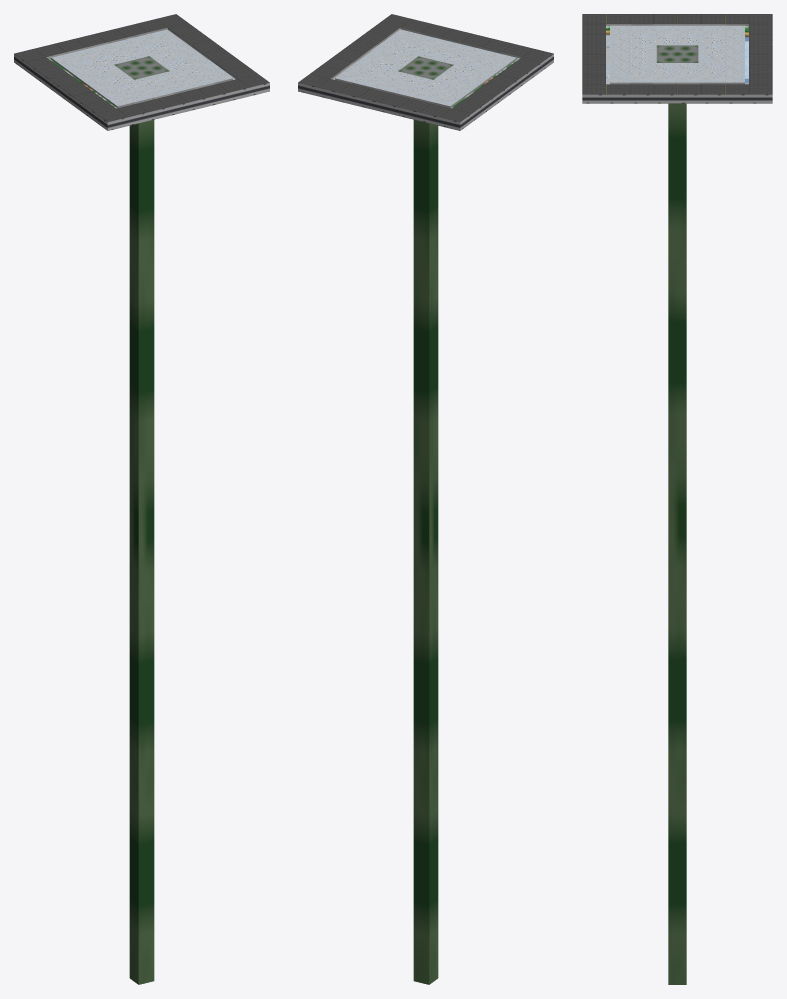
The model's file is geometry-01-initialbase.FBX.
3 views of the same model, side by side, from view 1: azimuth 30°, elevation 25°; view 2: azimuth 150°, elevation 25°; view 3: azimuth 270°, elevation 25° (orthographic).
Visible parts, largest first — view 1: Initial-base; view 2: Initial-base; view 3: Initial-base.
Part boxes in pixels (bbox=[...]): Initial-base: bbox=[14, 14, 269, 984]; Initial-base: bbox=[298, 14, 553, 984]; Initial-base: bbox=[582, 14, 772, 984].
Size of the model in its own units: 160 by 860 by 160.
Materials: 1 (1 with a texture image).
